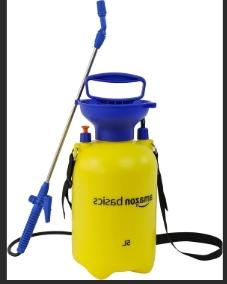PULVERISATEUR: (0, 0, 224, 284)
